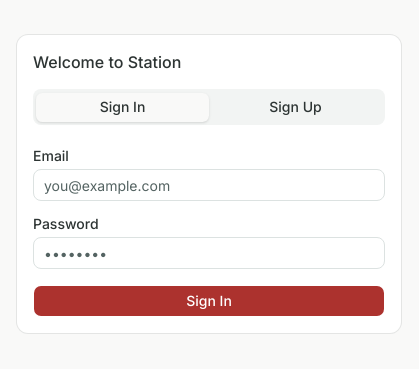
Test case: AuthPage › Sign In form › shows error when password is empty
This screenshot has width=419, height=369.
Type "test@example.com" into the field labelled "Email" at (209, 185), box x1=33 y1=169 x2=385 y2=201
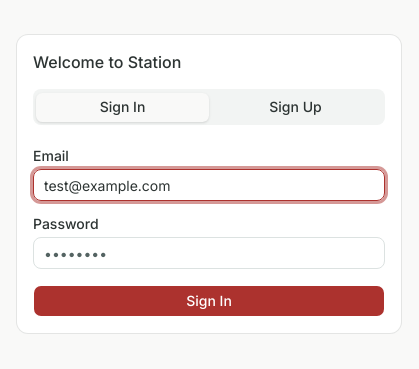
Click the button "Sign In" at (209, 301), box x1=33 y1=285 x2=385 y2=317
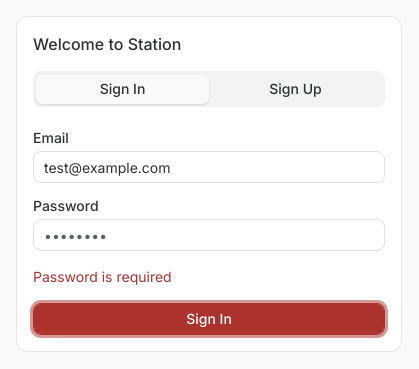
Result: the message reads "Password is required" at x1=33 y1=268 x2=172 y2=285
